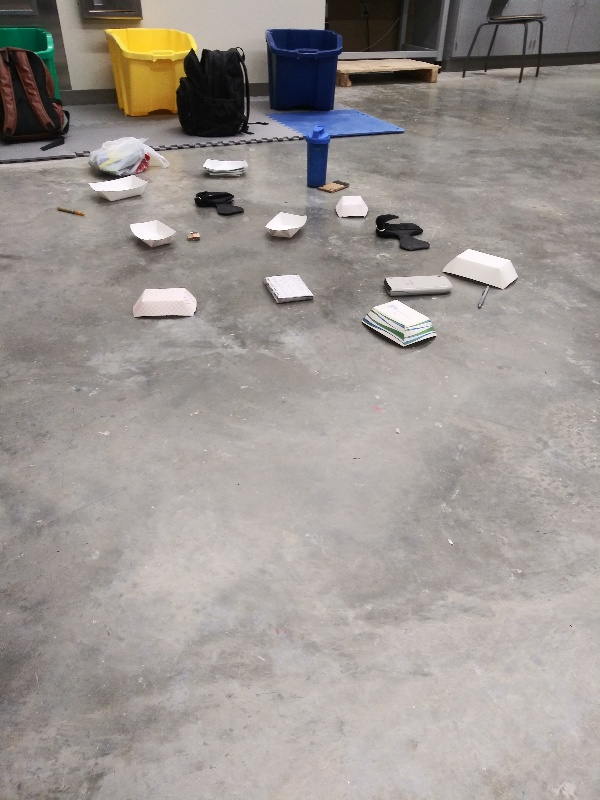plate: (353, 299, 443, 350), (440, 249, 527, 292), (128, 283, 201, 322), (87, 173, 153, 205), (122, 216, 181, 250), (260, 209, 309, 242), (332, 191, 371, 225), (198, 155, 252, 179)
